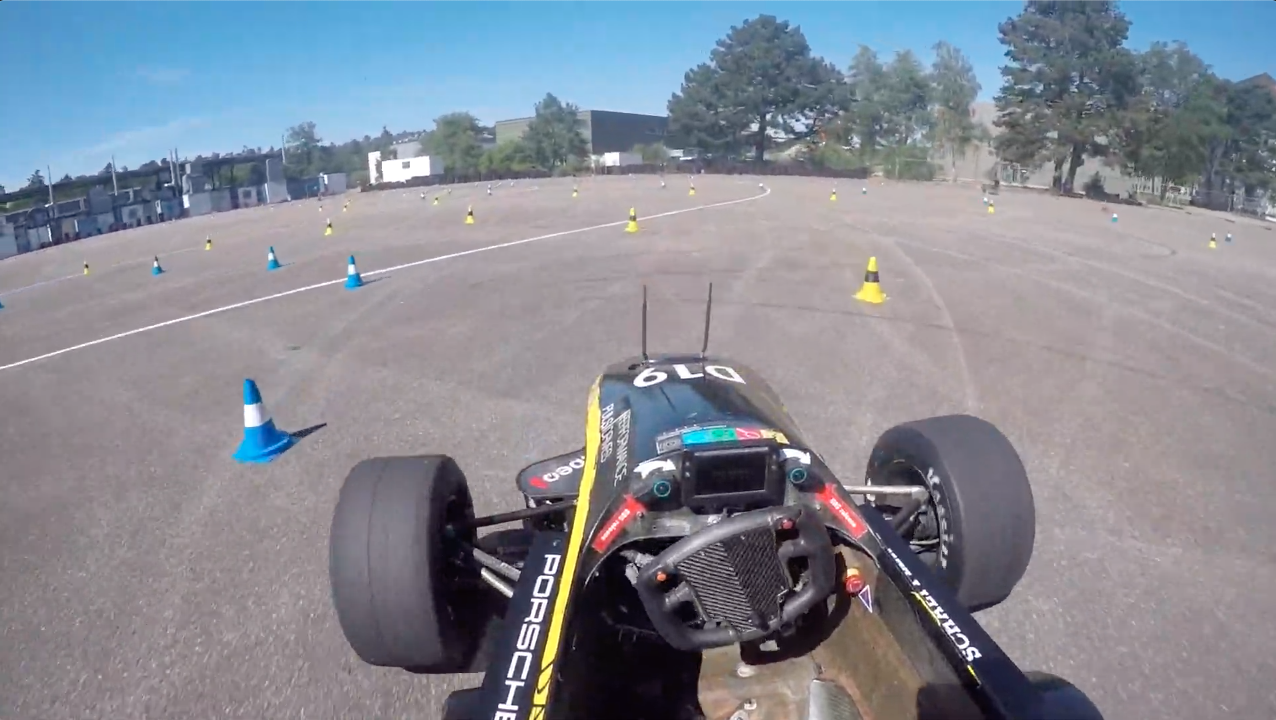lcone: (227, 376, 301, 467), (339, 253, 369, 291), (262, 243, 285, 272)
rcone: (850, 254, 892, 307), (621, 204, 645, 234), (462, 203, 478, 227)
